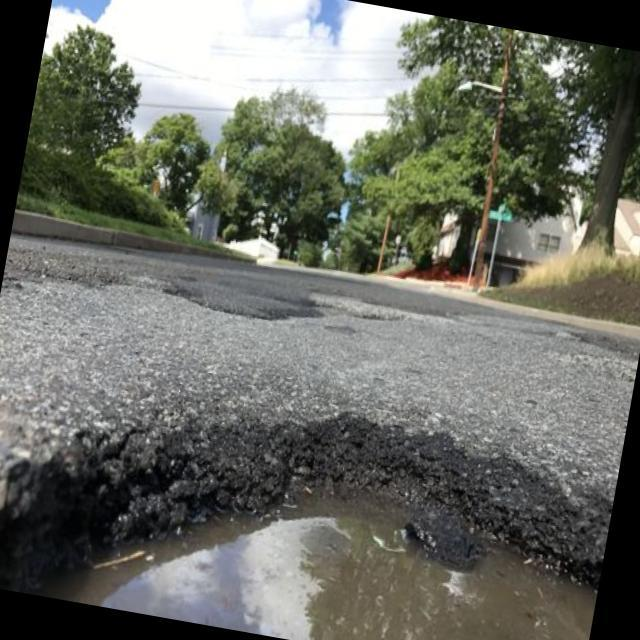Pothole: (0, 350, 620, 640)
